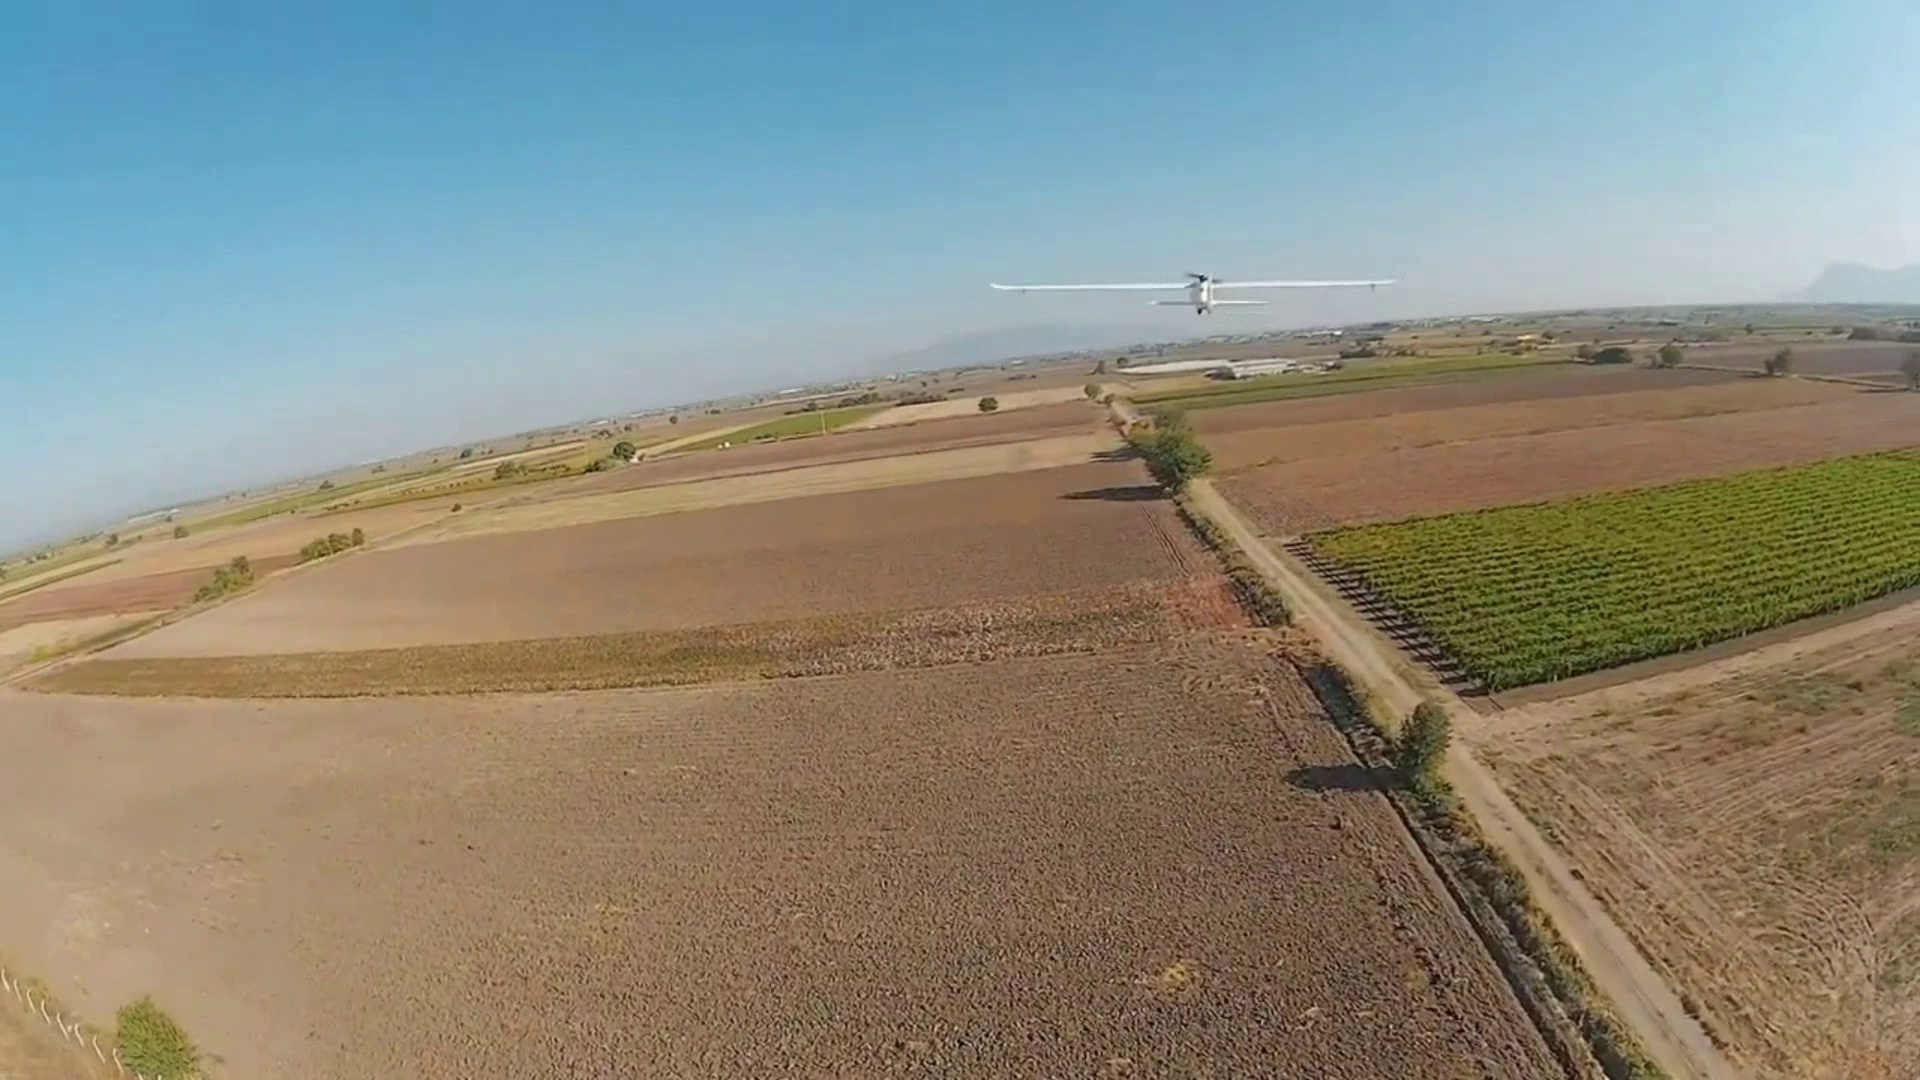airplane: (985, 259, 1398, 312)
